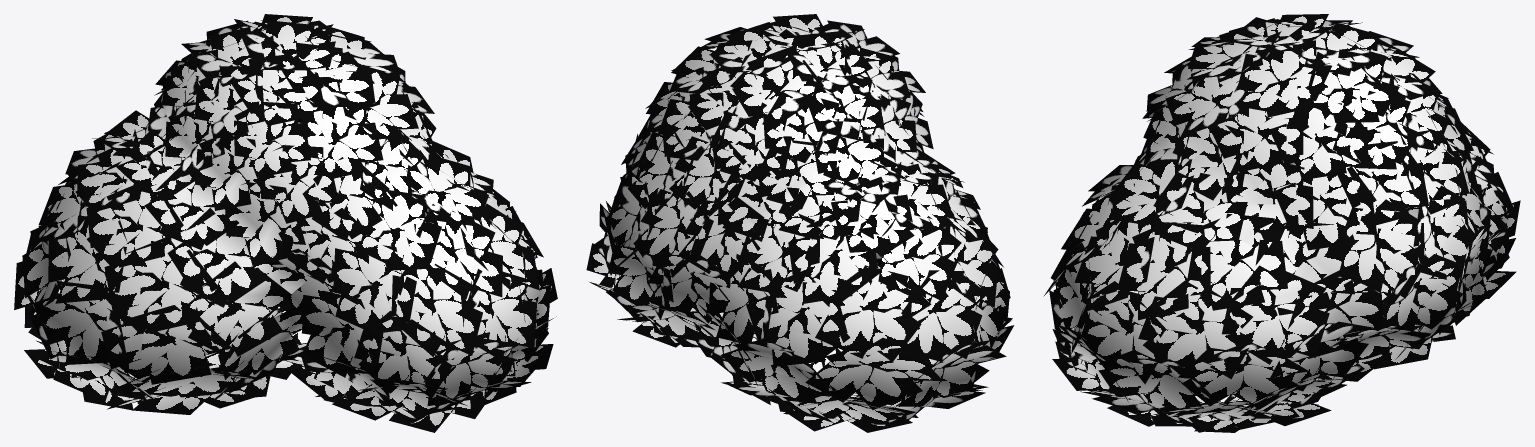
Rendered from test_hojas(2).fbx.
3 views of the same model, side by side, from view 1: azimuth 30°, elevation 25°; view 2: azimuth 150°, elevation 25°; view 3: azimuth 270°, elevation 25° (orthographic). The views are drawn at different scales.
Parts seen in each view (by area): view 1: Plane.002; view 2: Plane.002; view 3: Plane.002.
Boxes of the visible parts, x1=… form: Plane.002: x1=14, y1=14, x2=557, y2=432; Plane.002: x1=586, y1=14, x2=1014, y2=432; Plane.002: x1=1043, y1=14, x2=1520, y2=432.
Bounding box in the file's own units: 7.72 × 6.11 × 7.33.
Materials: 1 (1 with a texture image).
